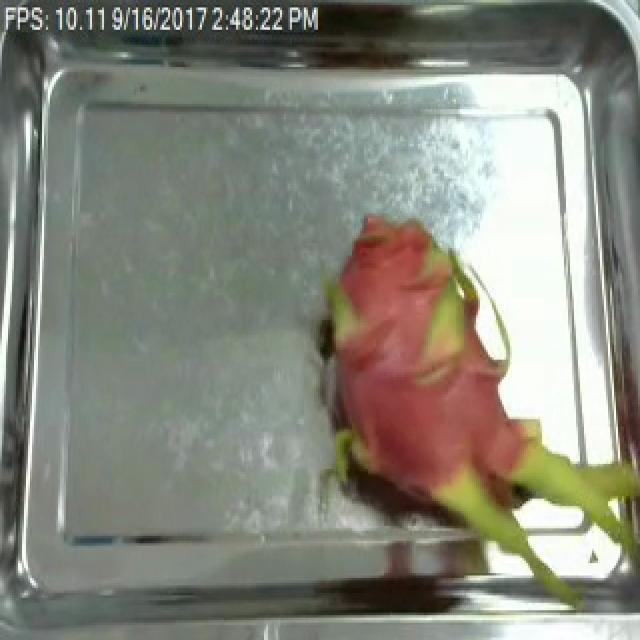fruit: (294, 201, 636, 618)
